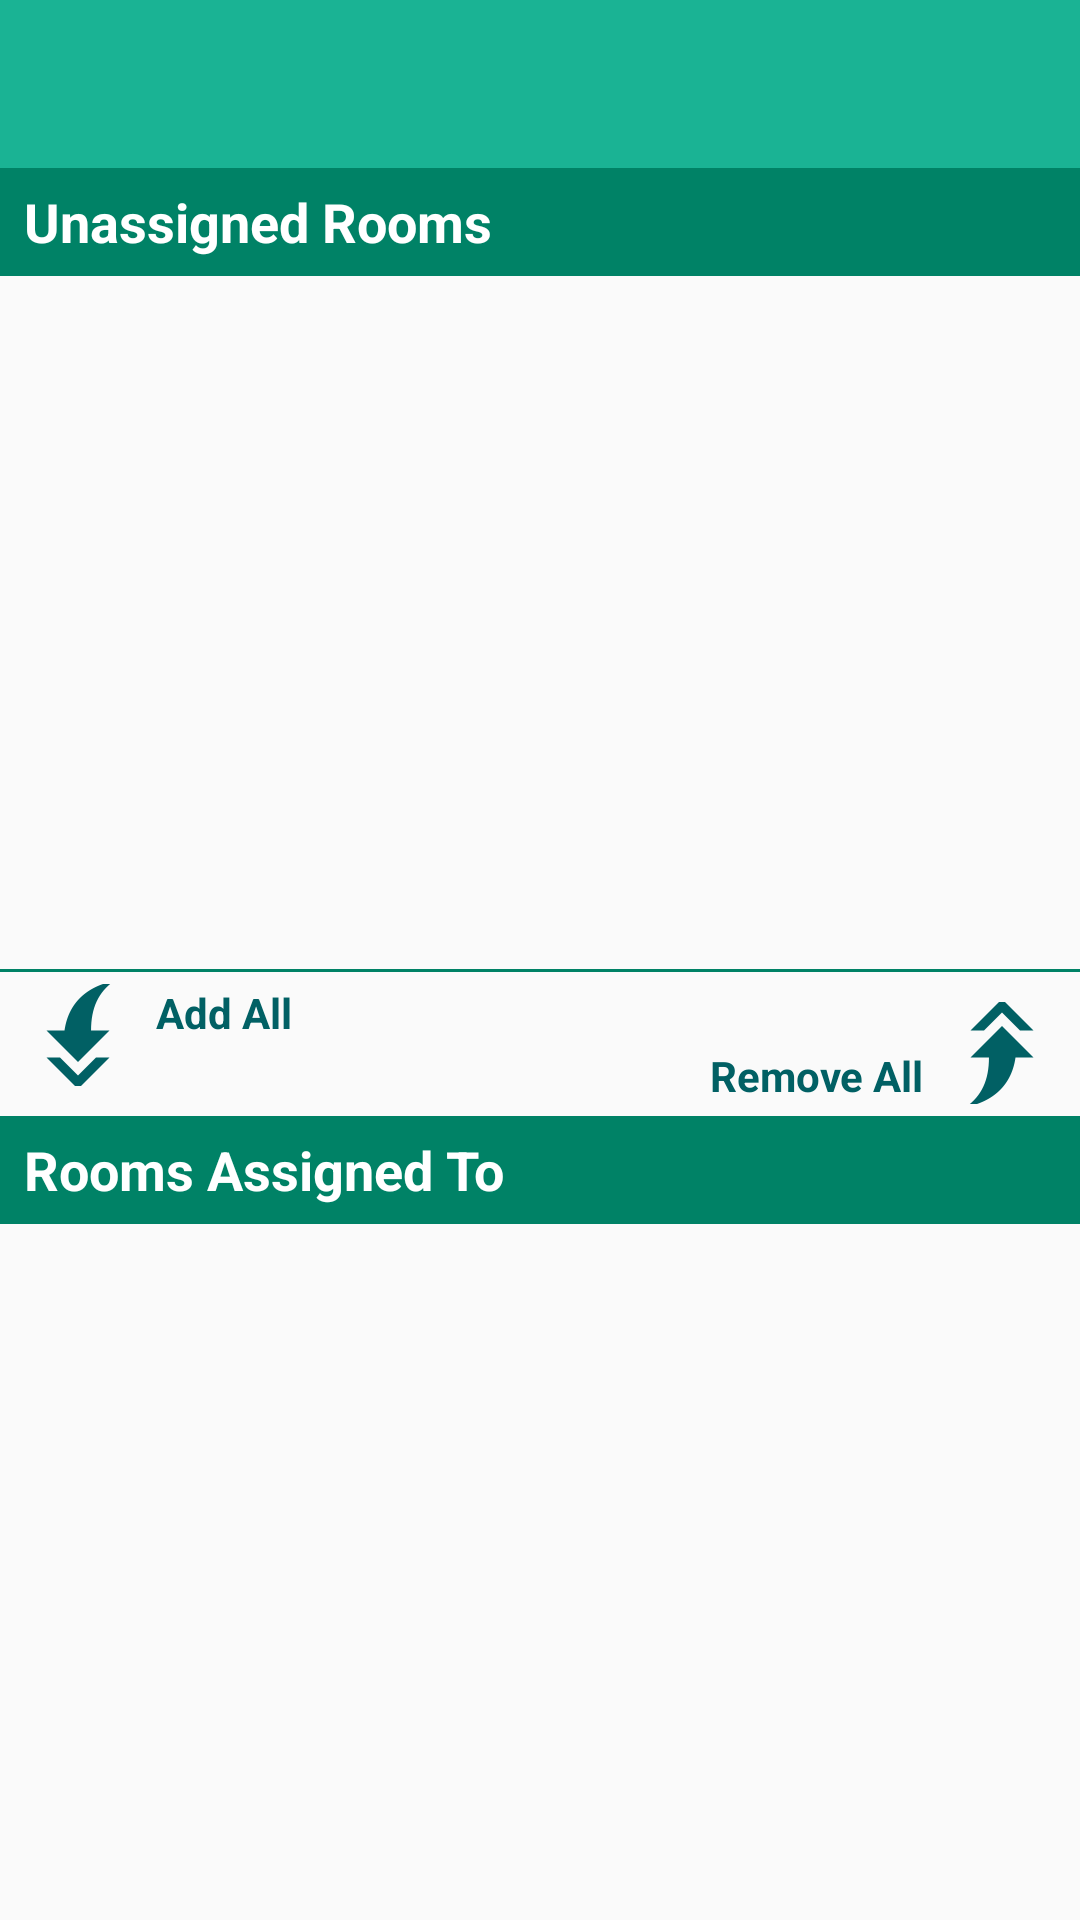

Point at icon controls on the screen. Image size 1080*1920, points as [x,y].
add all up: [1002,1053]
